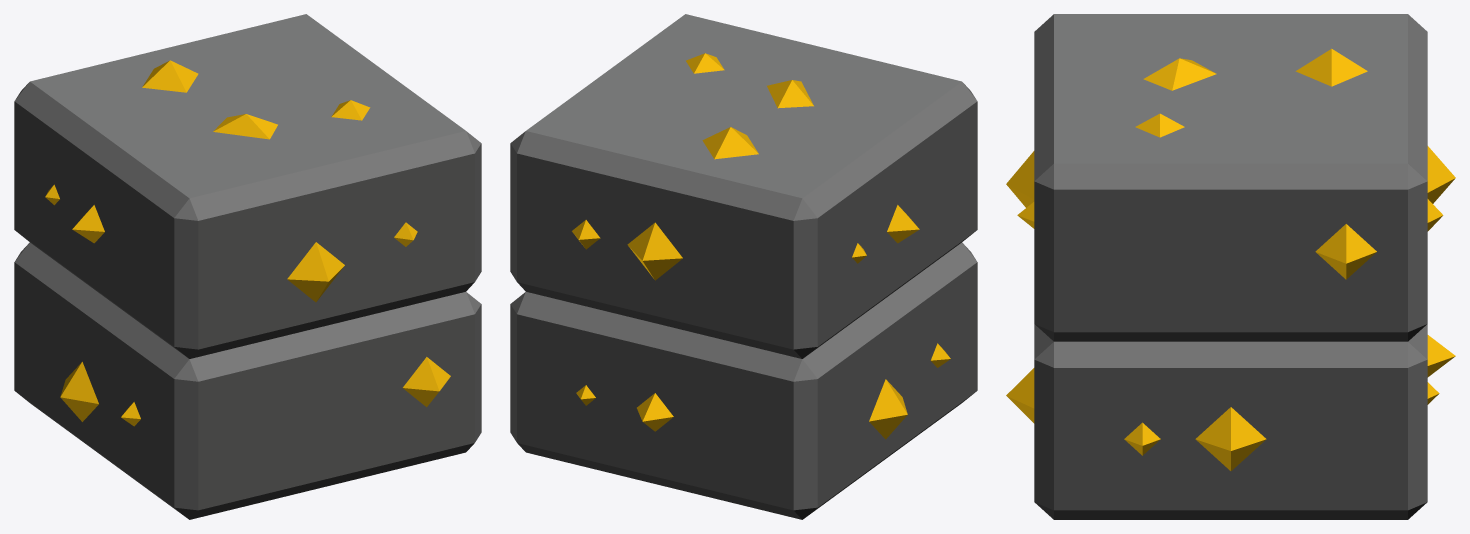
File: m_kub_ore_cubeSmallDouble.FBX
The picture shows the model from 3 angles, left to right: view 1: azimuth 30°, elevation 25°; view 2: azimuth 150°, elevation 25°; view 3: azimuth 270°, elevation 25°; orthographic projection. The views are drawn at different scales.
Visible parts, largest first — view 1: m_kub_ore_cubeSmallDouble; view 2: m_kub_ore_cubeSmallDouble; view 3: m_kub_ore_cubeSmallDouble.
Boxes of the visible parts, x1=… form: m_kub_ore_cubeSmallDouble: x1=14, y1=14, x2=481, y2=519; m_kub_ore_cubeSmallDouble: x1=510, y1=14, x2=977, y2=519; m_kub_ore_cubeSmallDouble: x1=1006, y1=14, x2=1455, y2=519.
Size of the model in its own units: 2.29 by 2.13 by 2.29.
